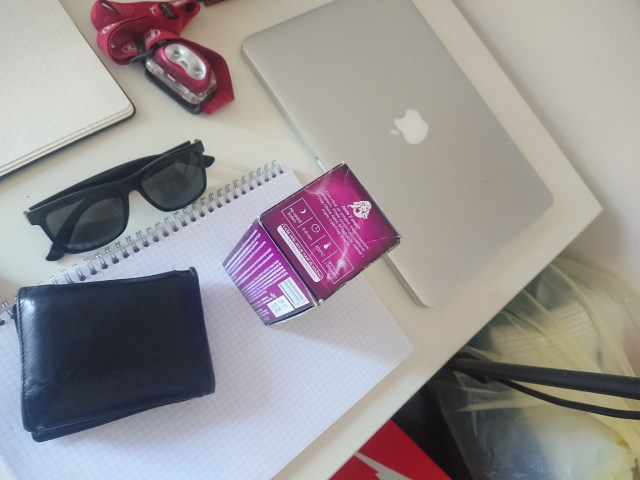Franck Black Currant Tea 60g: (220, 159, 404, 328)
